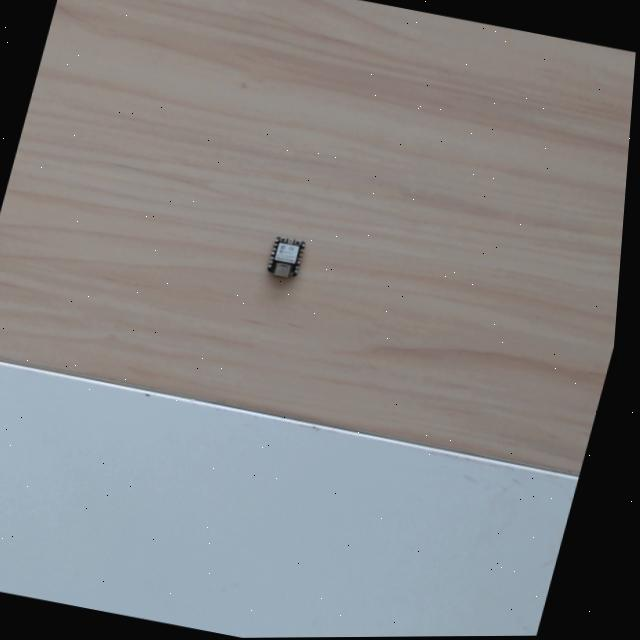ESP32C3-Xiao: (262, 230, 309, 284)
